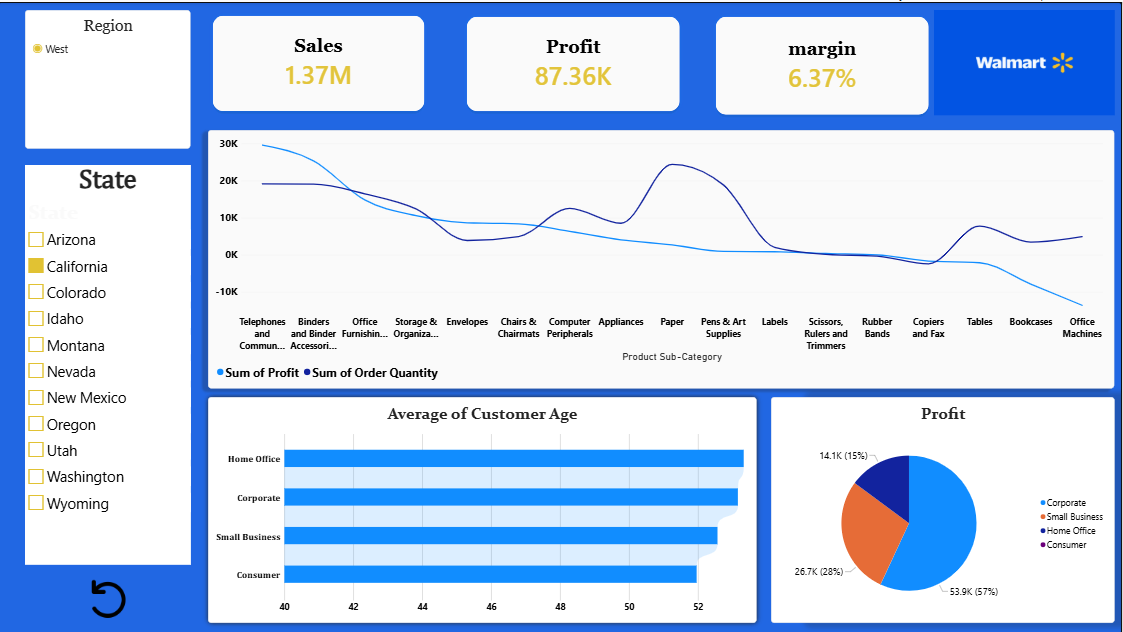

The dashboard page shown, as its layout file describes it:
{"tool":"powerbi","page":{"name":"Page 1","canvas":[2560,1440],"ordinal":0},"visuals":[{"type":"cardVisual","fields":{"Data":["Sum(walmart Retail Data.Profit)"]},"box":[1058.2,22.9,507.4,237.1],"z":0},{"type":"cardVisual","fields":{"Data":["Sum(walmart Retail Data.Sales)"]},"box":[479.4,20.4,504.9,239.7],"z":1000},{"type":"slicer","title":"State","fields":{"Values":["walmart Retail Data.State"]},"box":[60.7,370.7,377.8,911.5],"z":2000},{"type":"listSlicer","fields":{"Values":["walmart Retail Data.Region"]},"box":[61.2,17.8,377.1,316.4],"z":3000},{"type":"cardVisual","fields":{"Data":["walmart Retail Data.margin"]},"box":[1624.8,23.8,507.2,245.7],"z":4000},{"type":"image","box":[2131.7,19.2,412.3,239.7],"z":5000},{"type":"pieChart","title":"Profit","fields":{"Category":["walmart Retail Data.Customer Segment"],"Y":["Sum(walmart Retail Data.Profit)"]},"box":[1761.9,900.1,782.8,515.1],"z":6000},{"type":"barChart","title":"Average of Customer Age","fields":{"Category":["walmart Retail Data.Customer Segment"],"Y":["Avg(walmart Retail Data.Customer Age)"]},"box":[478.2,900.9,1249.6,515.2],"z":7000},{"type":"lineChart","title":" Order Quantity","fields":{"Category":["walmart Retail Data.Product Sub-Category"],"Y":["Sum(walmart Retail Data.Profit)"],"Y2":["Sum(walmart Retail Data.Order Quantity)"]},"box":[479.4,290.7,2065.3,589],"z":8000},{"type":"image","box":[60.7,1307.2,377.1,108.7],"z":9000}]}

Visuals, with their boxes in screenshot pixels (x1, y1, x2, y2), scaled from the page's 2560x1440 canvas onto the 1123x632 screenshot:
cardVisual - Sum(walmart Retail Data.Profit): 464,10,687,114
cardVisual - Sum(walmart Retail Data.Sales): 210,9,432,114
"State" slicer: 27,163,192,563
listSlicer - walmart Retail Data.Region: 27,8,192,147
cardVisual - walmart Retail Data.margin: 713,10,935,118
image: 935,8,1116,114
"Profit" pieChart: 773,395,1116,621
"Average of Customer Age" barChart: 210,395,758,622
" Order Quantity" lineChart: 210,128,1116,386
image: 27,574,192,621
